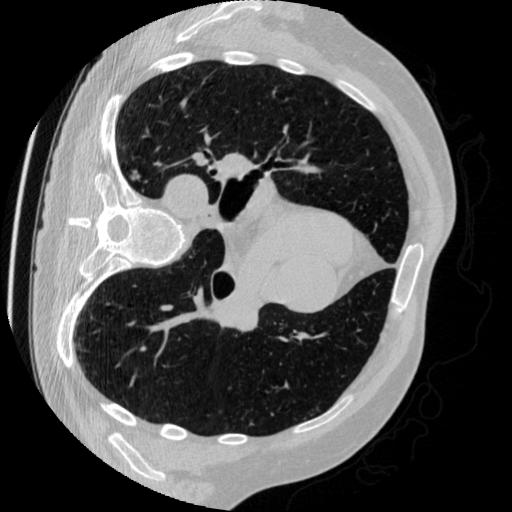nodule: (128, 171, 144, 187)
